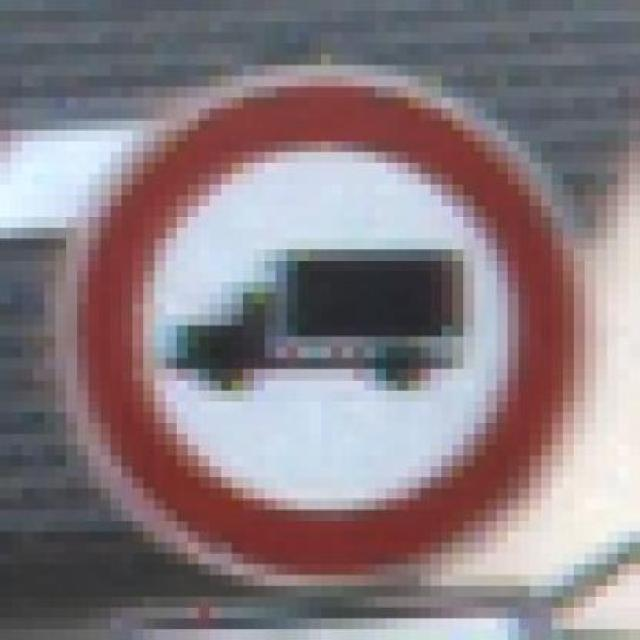Truck traffic is prohibited: (66, 21, 596, 597)
